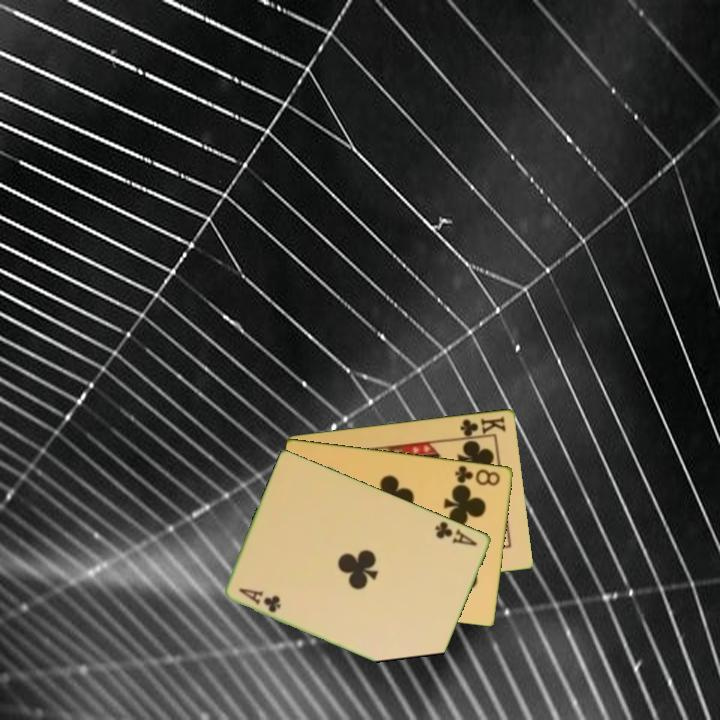8c: (451, 462, 503, 488)
Ac: (432, 517, 481, 549), (236, 584, 284, 615)
Kc: (455, 413, 509, 441)
